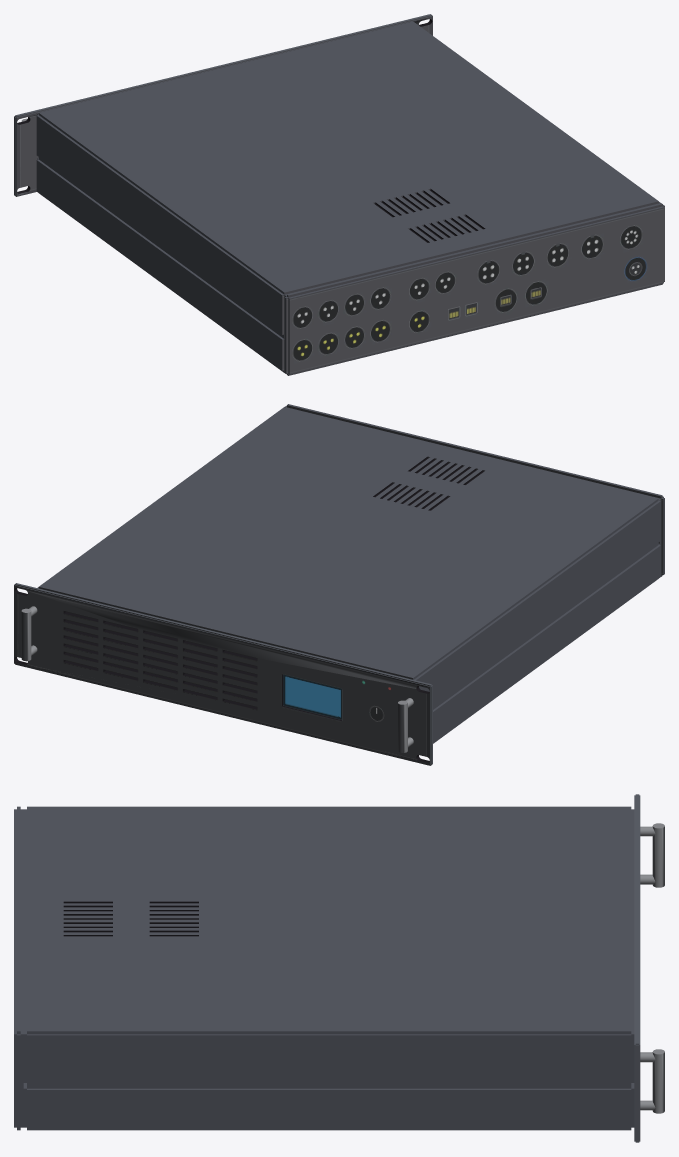
The model's file is db-audiotechnik-d80.glb.
3 renders of one model, top to bottom at view 1: azimuth 30°, elevation 25°; view 2: azimuth 150°, elevation 25°; view 3: azimuth 270°, elevation 25°, orthographic. The views are drawn at different scales.
Visible parts, largest first — view 1: db-audiotechnik-d80-body; view 2: db-audiotechnik-d80-body; view 3: db-audiotechnik-d80-body.
Part boxes in pixels (left/top/right/bottom): db-audiotechnik-d80-body: left=14, top=14, right=664, bottom=375; db-audiotechnik-d80-body: left=14, top=404, right=664, bottom=765; db-audiotechnik-d80-body: left=14, top=794, right=664, bottom=1142.
Bounding box in the file's own units: 0.4826 × 0.0889 × 0.53.
Materials: 1 (1 with a texture image).
